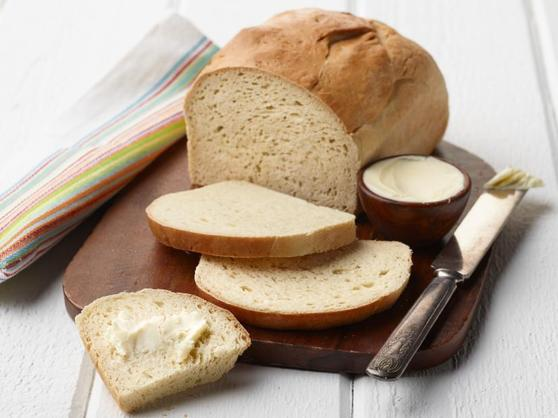white_bread: (177, 2, 459, 215)
